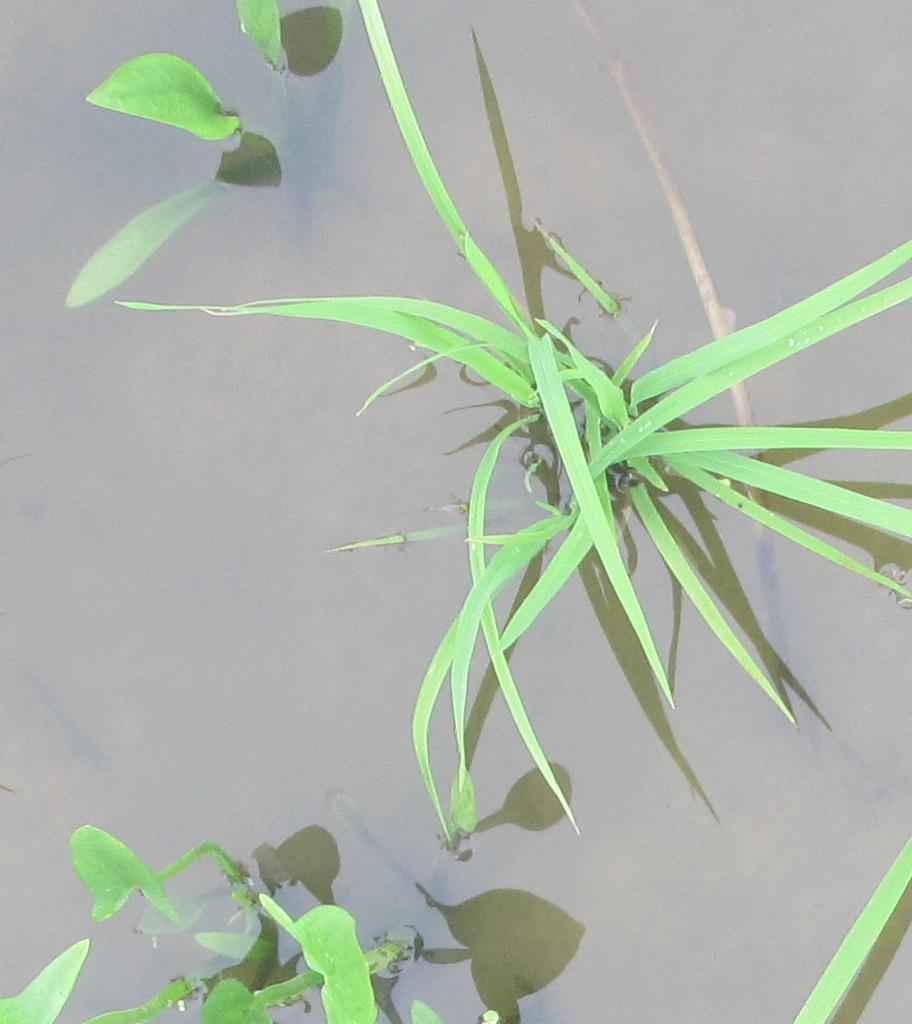Weed: (60, 830, 385, 1011), (83, 53, 244, 146)
